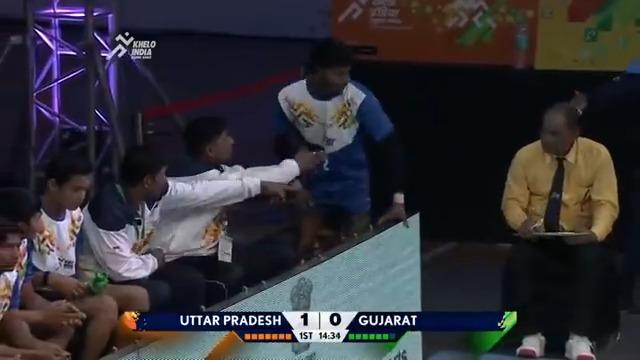Player: (78, 142, 322, 313), (275, 36, 408, 258), (10, 149, 119, 359)
referee: (499, 94, 620, 358)
